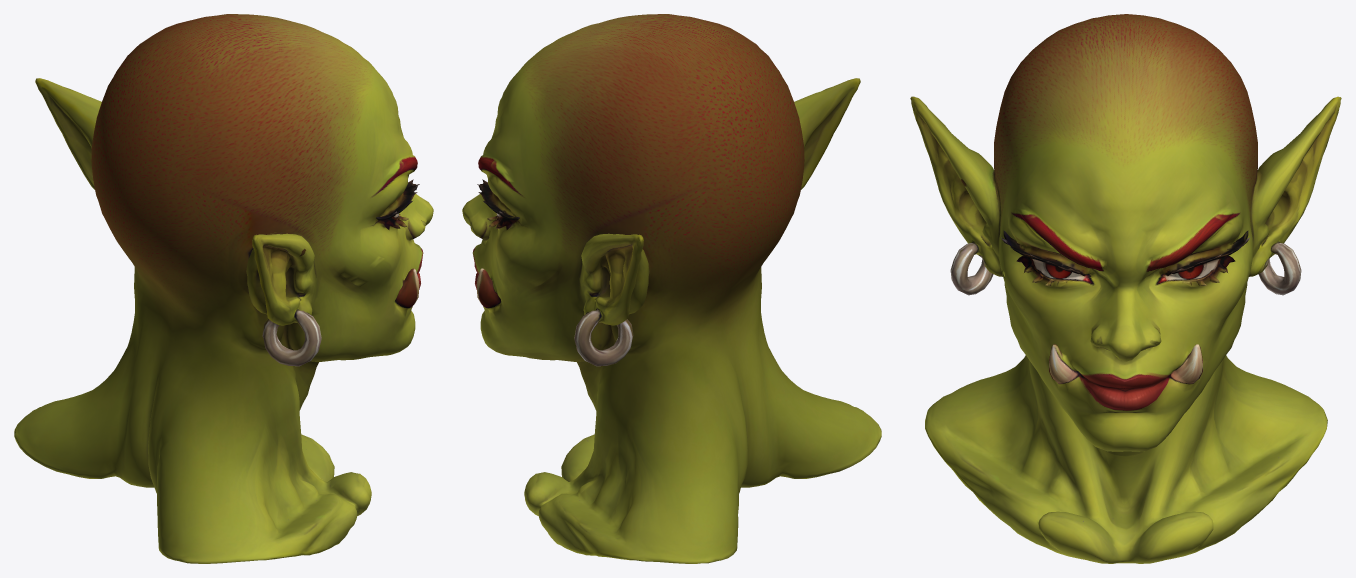
File: head-tripo.glb
3 renders of one model, left to right at view 1: azimuth 30°, elevation 25°; view 2: azimuth 150°, elevation 25°; view 3: azimuth 270°, elevation 25°, orthographic. The views are drawn at different scales.
Parts seen in each view (by area): view 1: tripo_node_959f8809-cdc3-4293-b569-6bacc42498ae; view 2: tripo_node_959f8809-cdc3-4293-b569-6bacc42498ae; view 3: tripo_node_959f8809-cdc3-4293-b569-6bacc42498ae.
Part boxes in pixels (<box>): tripo_node_959f8809-cdc3-4293-b569-6bacc42498ae: <box>14,14,433,563</box>; tripo_node_959f8809-cdc3-4293-b569-6bacc42498ae: <box>462,14,881,563</box>; tripo_node_959f8809-cdc3-4293-b569-6bacc42498ae: <box>910,14,1341,563</box>.
Size of the model in its own units: 0.6829 by 0.9775 by 0.7786.
Materials: 1 (1 with a texture image).
